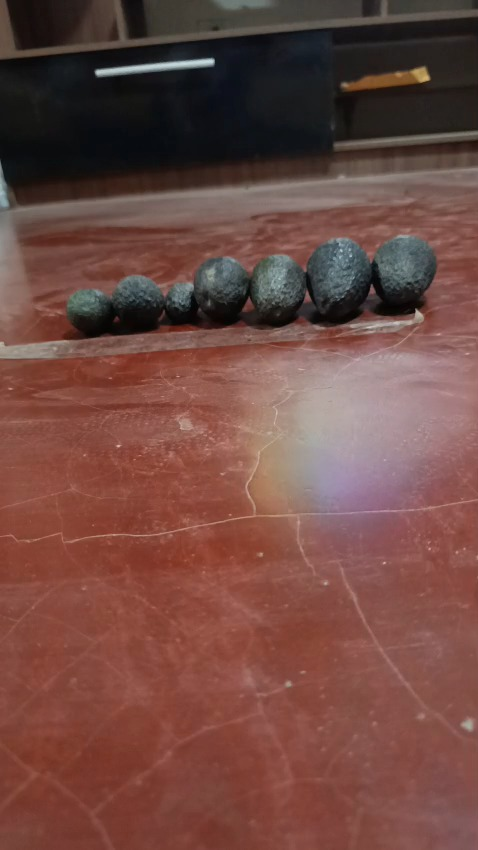Primera: (305, 237, 371, 320), (371, 234, 437, 310)
Segunda: (249, 253, 306, 324), (193, 255, 250, 322), (111, 274, 165, 330)
Tercera: (66, 288, 112, 335), (165, 282, 198, 324)
